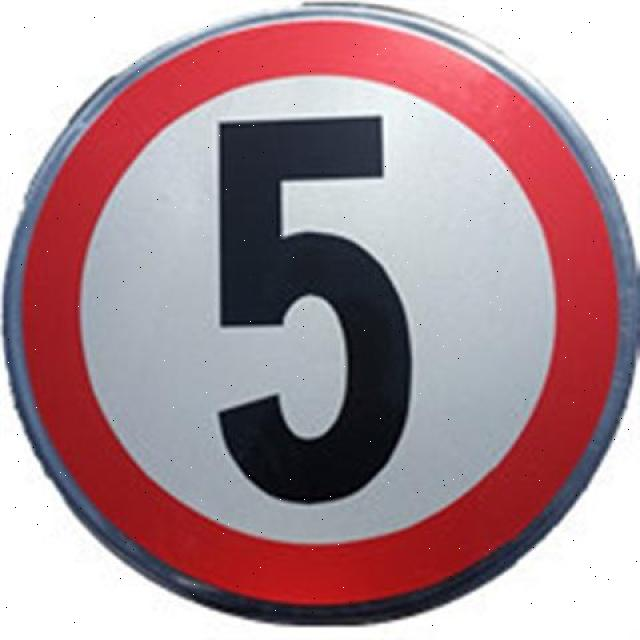speed limit 10: (3, 1, 638, 622)
